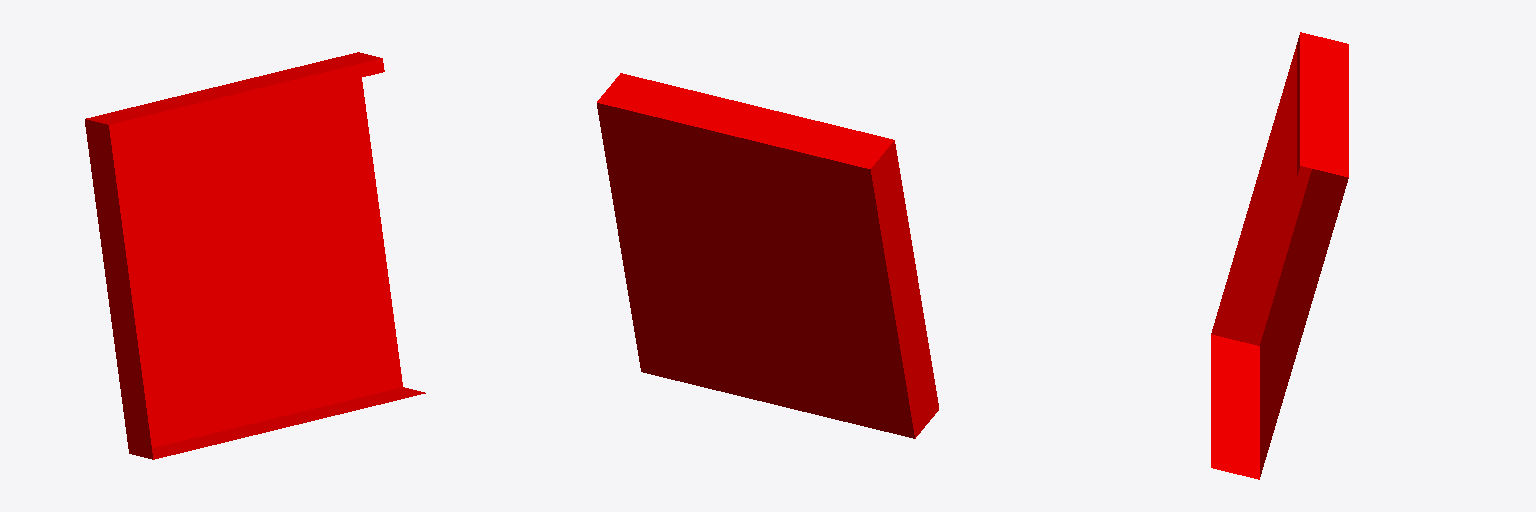
File: original-9.obj
The picture shows the model from 3 angles: view 1: azimuth 30°, elevation 25°; view 2: azimuth 150°, elevation 25°; view 3: azimuth 270°, elevation 25°; orthographic projection.
Visible parts, largest first — view 1: Component_2_2/Component_2_1_2/mesh12/mesh12-geometry#mesh12-geom; view 2: Component_2_2/Component_2_1_2/mesh12/mesh12-geometry#mesh12-geom; view 3: Component_2_2/Component_2_1_2/mesh12/mesh12-geometry#mesh12-geom.
Boxes of the visible parts, <box> form: Component_2_2/Component_2_1_2/mesh12/mesh12-geometry#mesh12-geom: <box>85,52,425,459</box>; Component_2_2/Component_2_1_2/mesh12/mesh12-geometry#mesh12-geom: <box>597,73,938,438</box>; Component_2_2/Component_2_1_2/mesh12/mesh12-geometry#mesh12-geom: <box>1211,32,1348,479</box>.
Bounding box in the file's own units: 0.4834 × 0.5293 × 0.2108.